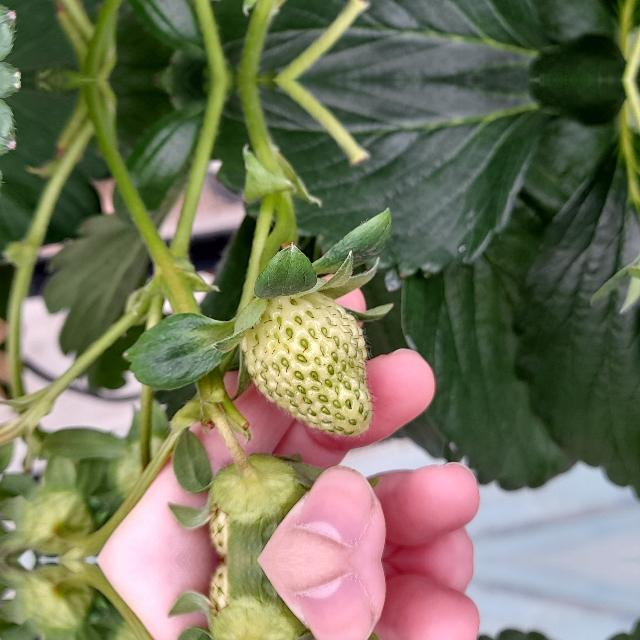Health_25: (239, 290, 371, 436)
